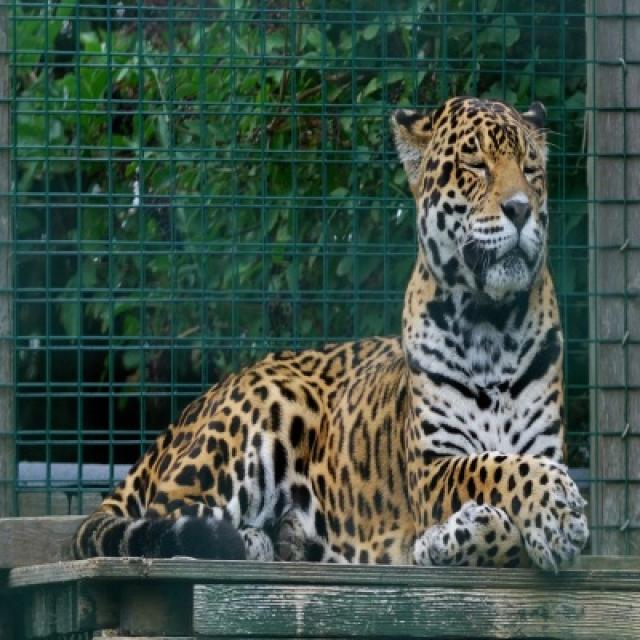Jaguar: (390, 98, 568, 467)
